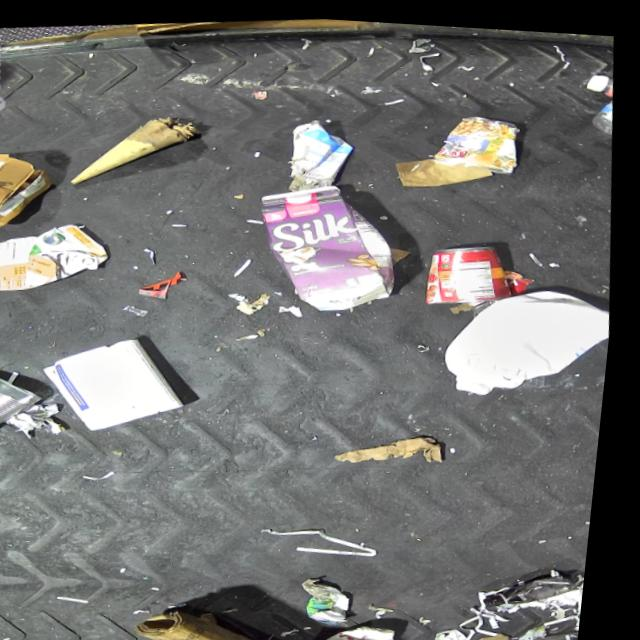can: (430, 103, 526, 174), (424, 233, 522, 302), (0, 365, 56, 439), (321, 615, 409, 640)
milk_jug: (441, 271, 620, 397)
non_white_jug: (255, 170, 414, 313), (0, 215, 121, 299)
